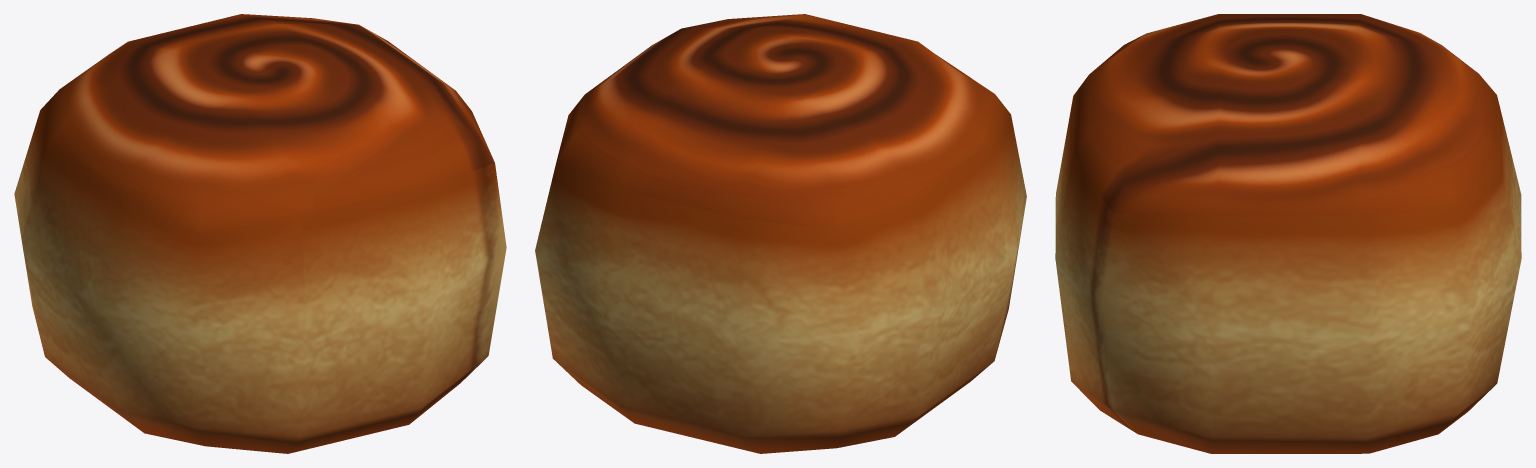
Rendered from 010-CinnamonBuns1.FBX.
3 renders of one model, left to right at view 1: azimuth 30°, elevation 25°; view 2: azimuth 150°, elevation 25°; view 3: azimuth 270°, elevation 25°, orthographic. The views are drawn at different scales.
Visible parts, largest first — view 1: 010-CinnamonBuns1; view 2: 010-CinnamonBuns1; view 3: 010-CinnamonBuns1.
Part boxes in pixels (x1,y1,x2,y2): 010-CinnamonBuns1: [14, 14, 506, 453]; 010-CinnamonBuns1: [535, 14, 1026, 453]; 010-CinnamonBuns1: [1055, 14, 1521, 453].
Size of the model in its own units: 13.27 by 10.57 by 13.01.
